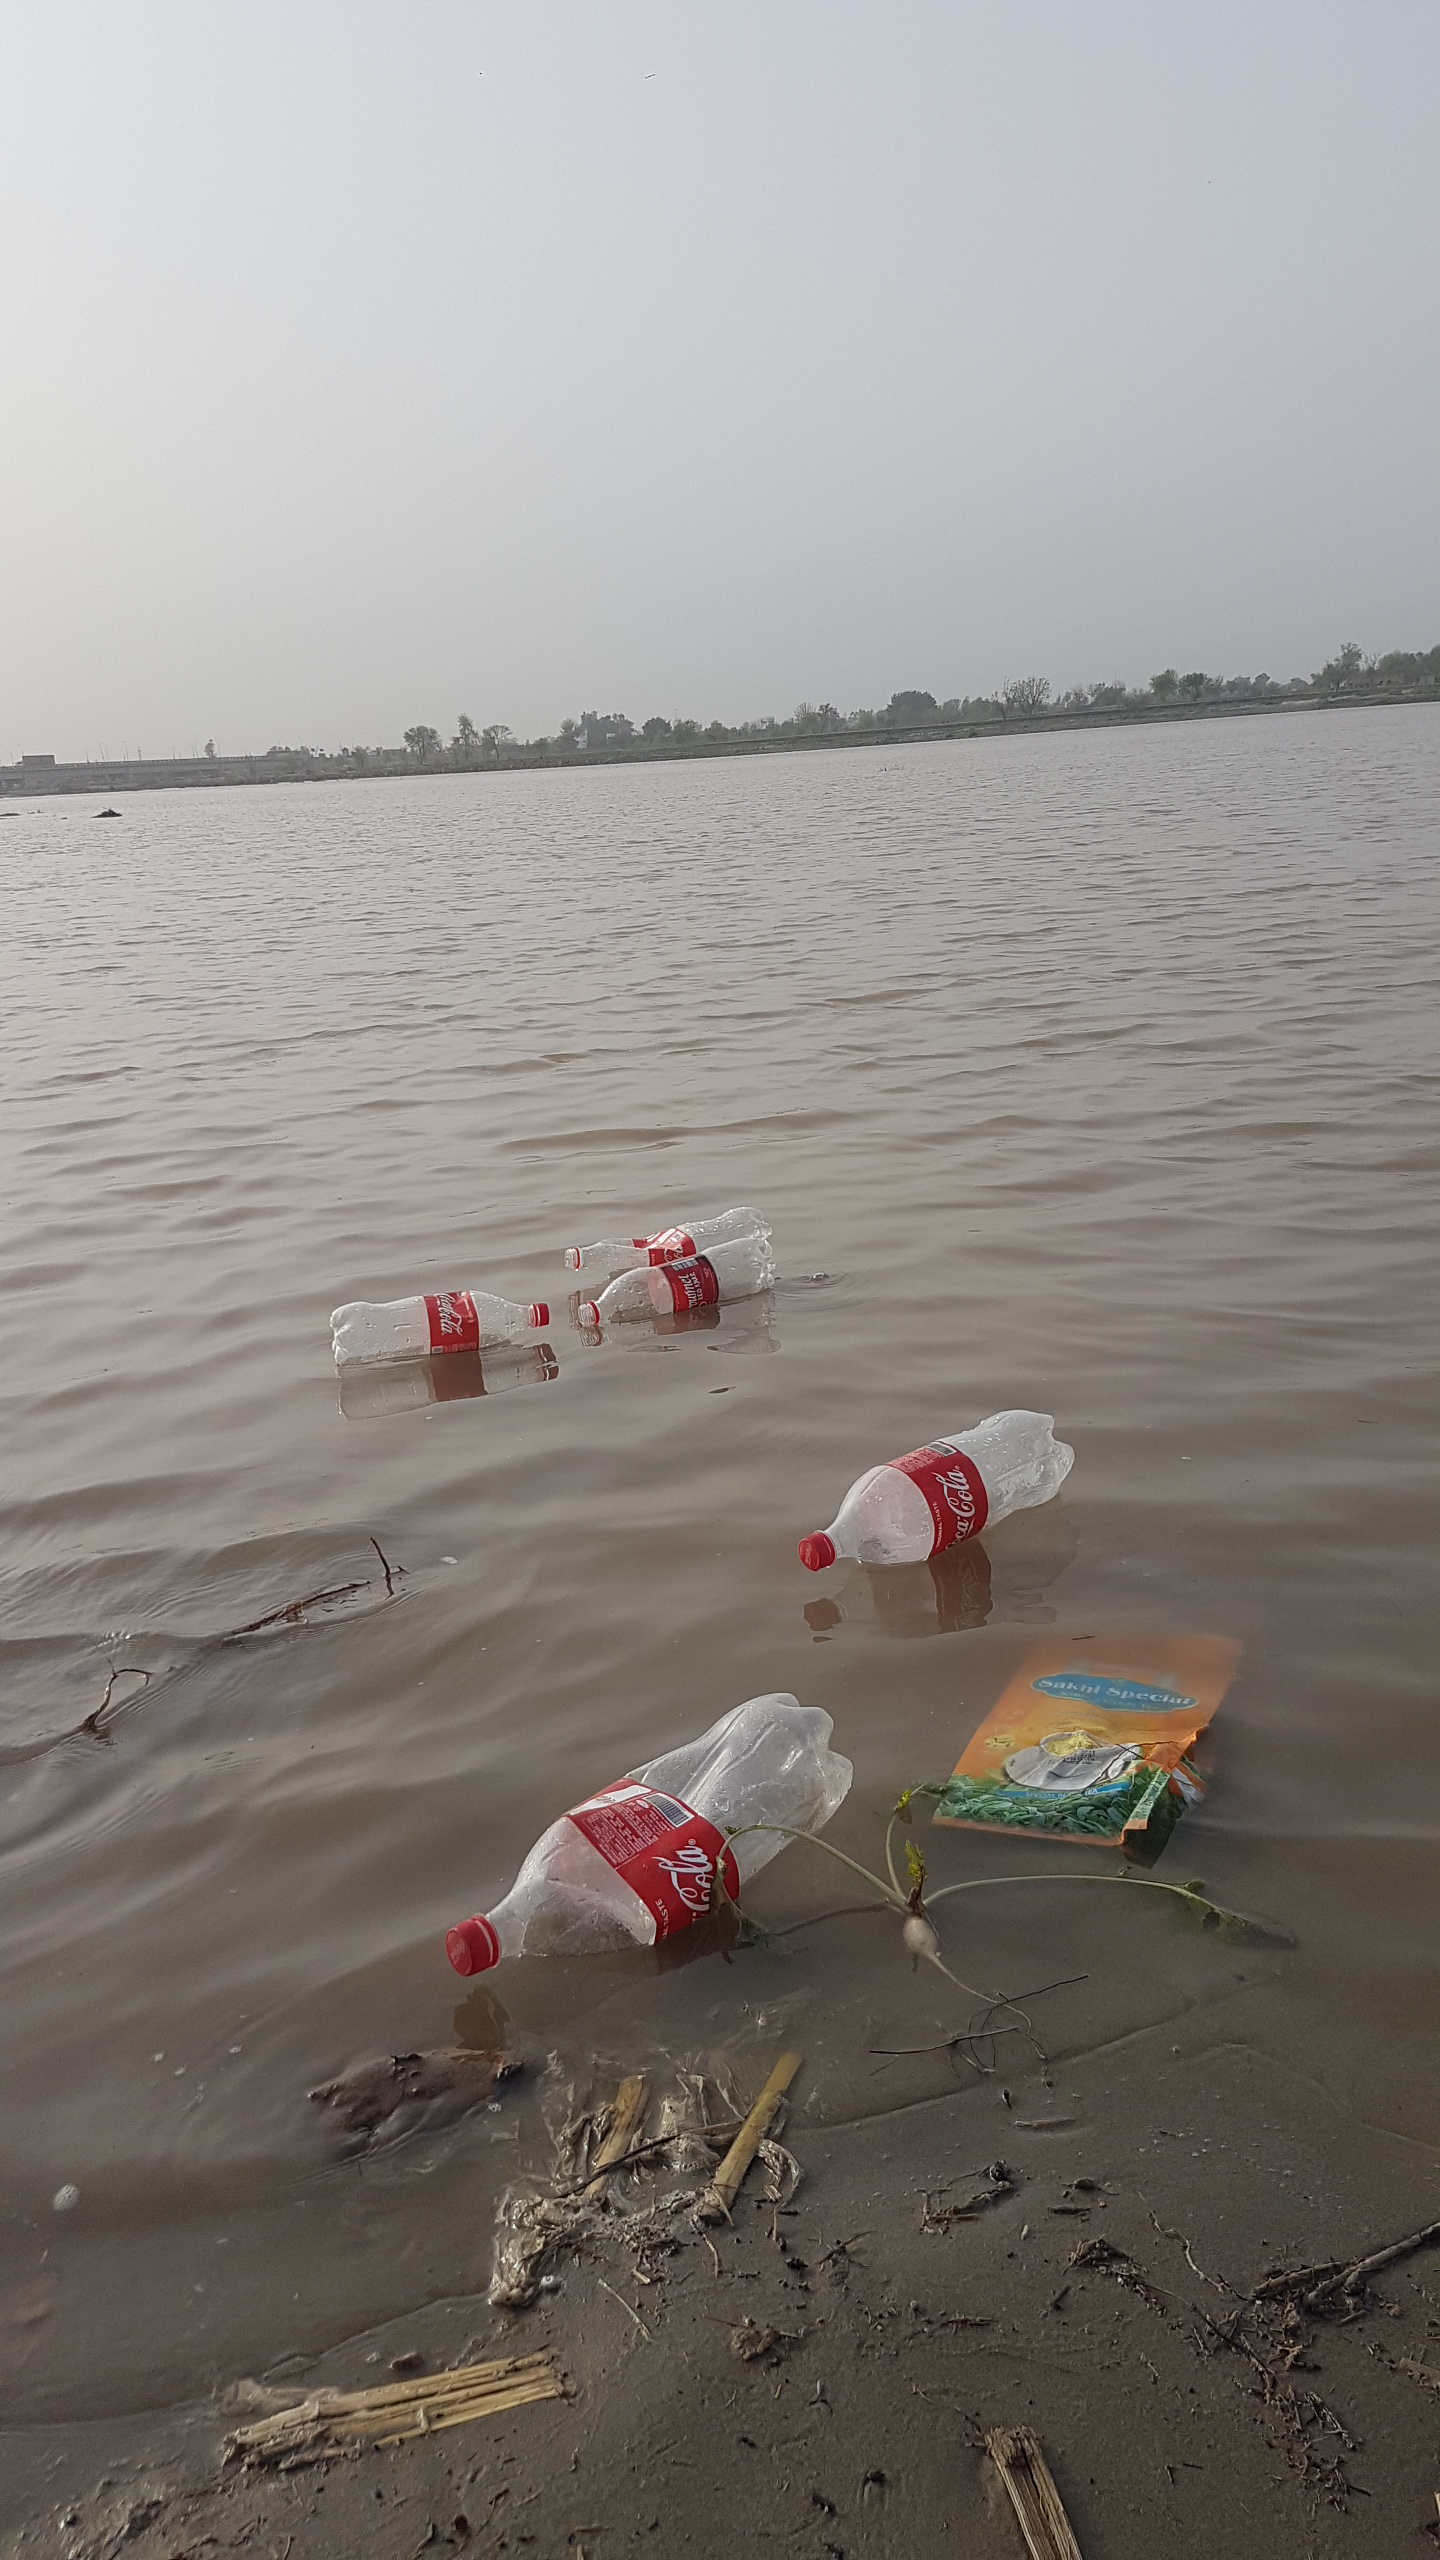Plastic Bottle: (445, 1691, 853, 1978), (798, 1408, 1074, 1572), (578, 1238, 775, 1327), (331, 1289, 549, 1366), (564, 1206, 772, 1275)
